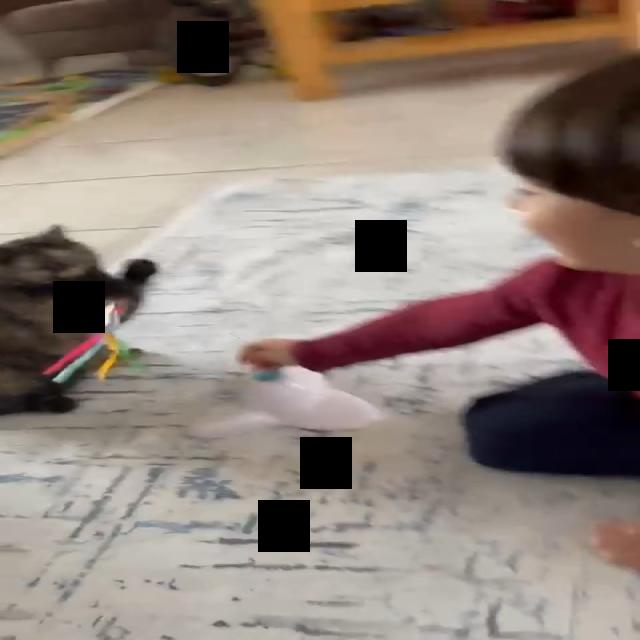authorized: (0, 223, 157, 415)
